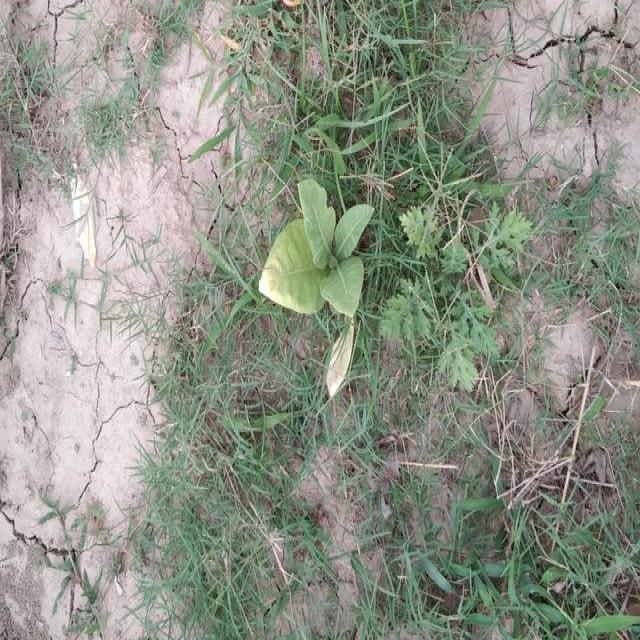crop: (249, 171, 385, 325)
